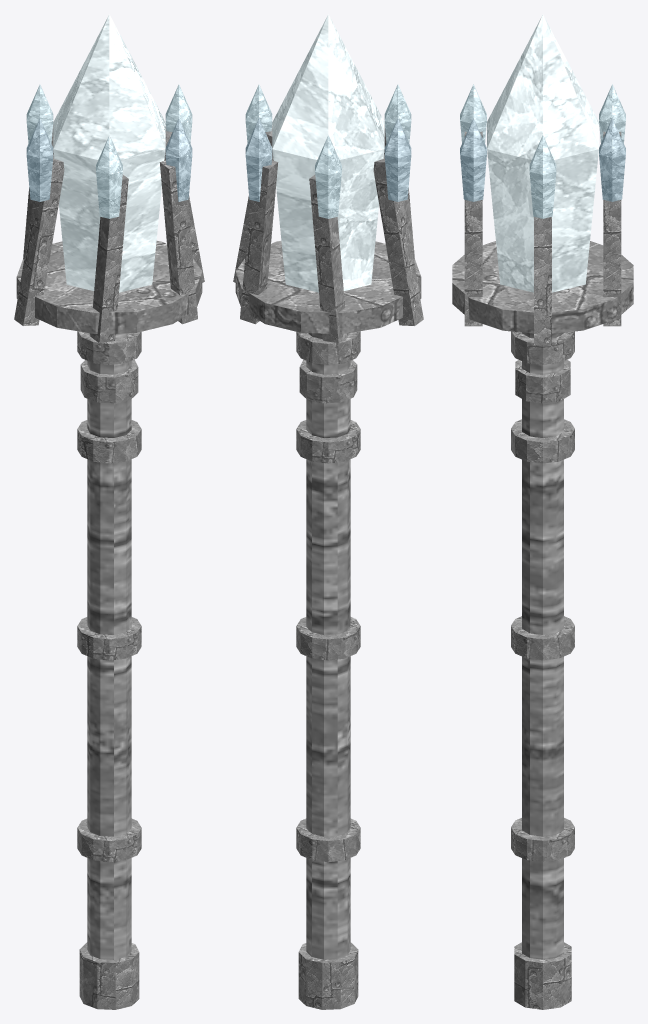
File: staff-frost-master.glb
3 renders of one model, left to right at view 1: azimuth 30°, elevation 25°; view 2: azimuth 150°, elevation 25°; view 3: azimuth 270°, elevation 25°, orthographic.
Visible parts, largest first — view 1: shaft, master-focus, master-halo, master-tine-3, pommel, master-tine-1, master-tine-2, shaft-band--0.48, shaft-band--0.05, shaft-band-0.37, neck-band, master-satellite-3 (+6 smaller); view 2: shaft, master-focus, master-halo, master-tine-3, pommel, master-tine-5, master-tine-4, shaft-band--0.48, shaft-band--0.05, shaft-band-0.37, neck-band, master-satellite-3 (+6 smaller); view 3: shaft, master-focus, master-halo, pommel, master-tine-0, master-tine-1, master-tine-5, shaft-band--0.48, shaft-band--0.05, shaft-band-0.37, neck-band, master-satellite-0 (+5 smaller).
Part boxes in pixels (x1,y1,x2,y2): shaft: [87, 333, 131, 959]; master-focus: [53, 14, 165, 292]; master-halo: [16, 241, 202, 333]; master-tine-3: [14, 155, 64, 325]; pommel: [79, 942, 139, 1009]; master-tine-1: [159, 160, 197, 324]; master-tine-2: [90, 174, 128, 342]; shaft-band--0.48: [77, 818, 141, 862]; shaft-band--0.05: [77, 617, 141, 660]; shaft-band-0.37: [77, 420, 141, 463]; neck-band: [80, 359, 138, 403]; master-satellite-3: [26, 118, 53, 201]; shaft: [306, 333, 350, 959]; master-focus: [272, 14, 384, 292]; master-halo: [235, 241, 421, 333]; master-tine-3: [373, 155, 423, 325]; pommel: [298, 942, 358, 1009]; master-tine-5: [240, 160, 278, 324]; master-tine-4: [309, 174, 347, 342]; shaft-band--0.48: [296, 818, 360, 862]; shaft-band--0.05: [296, 617, 360, 660]; shaft-band-0.37: [296, 420, 360, 463]; neck-band: [299, 359, 357, 403]; master-satellite-3: [384, 118, 411, 201]; shaft: [522, 332, 563, 959]; master-focus: [487, 14, 598, 292]; master-halo: [452, 241, 633, 333]; pommel: [514, 942, 571, 1009]; master-tine-0: [534, 217, 551, 344]; master-tine-1: [464, 200, 482, 326]; master-tine-5: [603, 200, 621, 326]; shaft-band--0.48: [511, 818, 574, 861]; shaft-band--0.05: [511, 616, 574, 660]; shaft-band-0.37: [511, 419, 574, 463]; neck-band: [515, 360, 570, 403]; master-satellite-0: [529, 135, 556, 218].
Size of the model in its own units: 0.4053 by 2.1 by 0.351.
5 materials, 5 textured.
